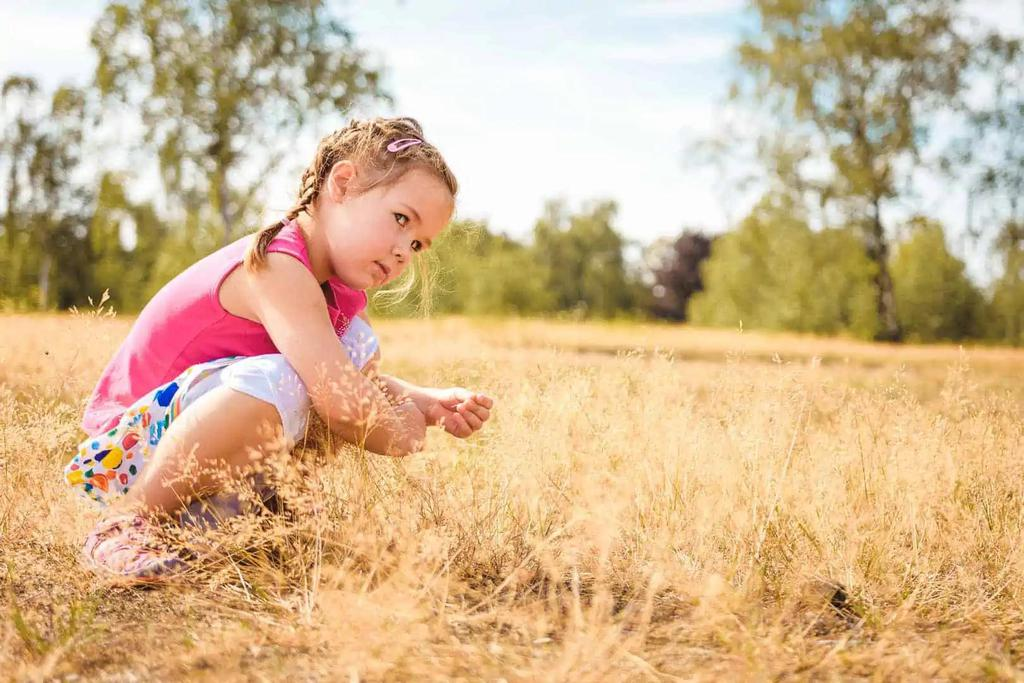child: (20, 86, 530, 600)
